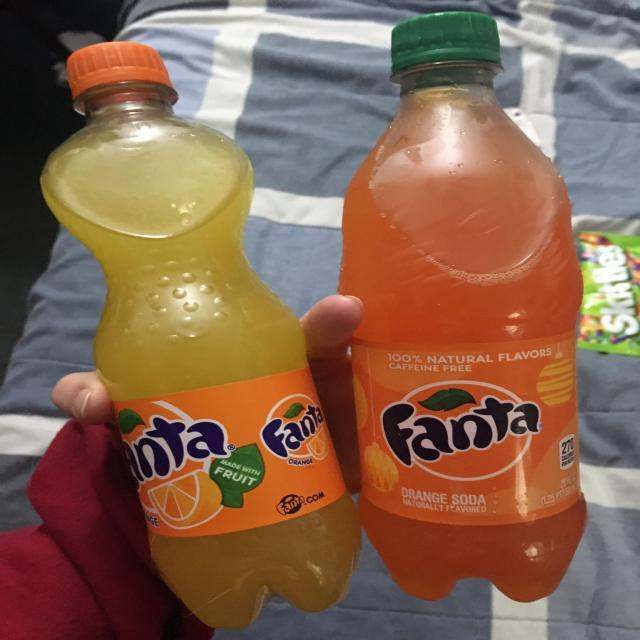Fanta: (32, 43, 366, 629), (338, 9, 602, 608)
